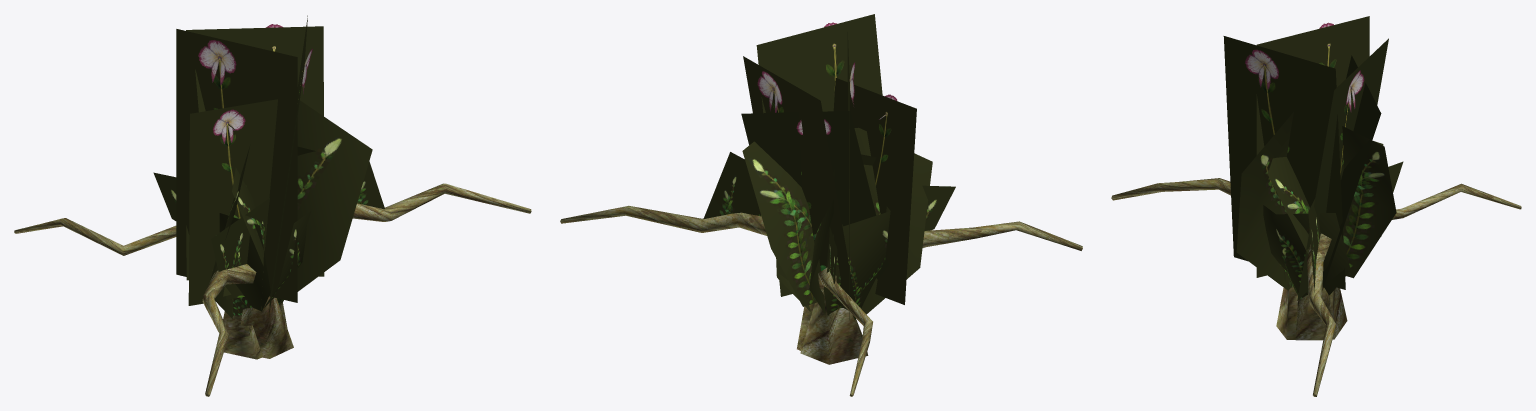
File: flow_dorvavine_l0.fbx
3 views of the same model, side by side, from view 1: azimuth 30°, elevation 25°; view 2: azimuth 150°, elevation 25°; view 3: azimuth 270°, elevation 25° (orthographic). The views are drawn at different scales.
Parts seen in each view (by area): view 1: mesh_node; view 2: mesh_node; view 3: mesh_node.
Boxes of the visible parts, <box> form: mesh_node: <box>14,15,531,396</box>; mesh_node: <box>560,14,1082,396</box>; mesh_node: <box>1111,16,1521,396</box>.
Bounding box in the file's own units: 4.32 × 2.99 × 3.75.
